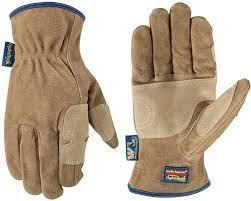Gloves: (126, 6, 251, 198), (3, 3, 121, 201)
